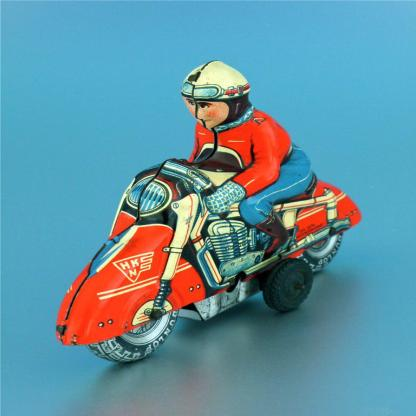Helmet: (185, 61, 254, 129)
